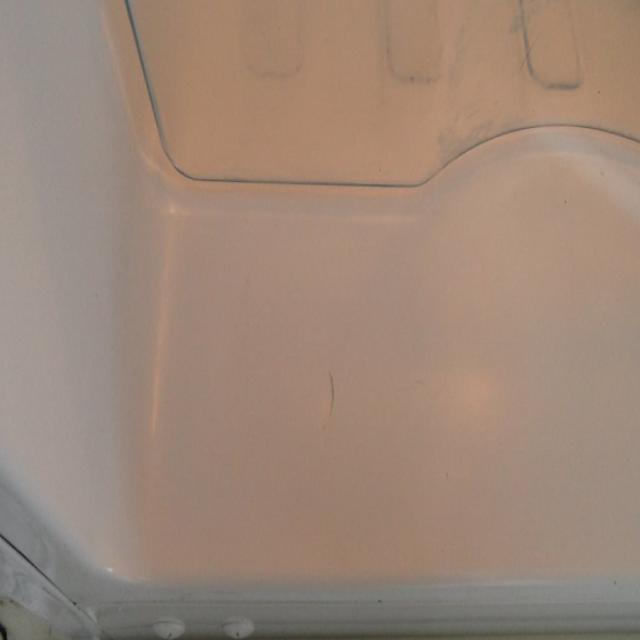dents: (313, 367, 362, 454)
